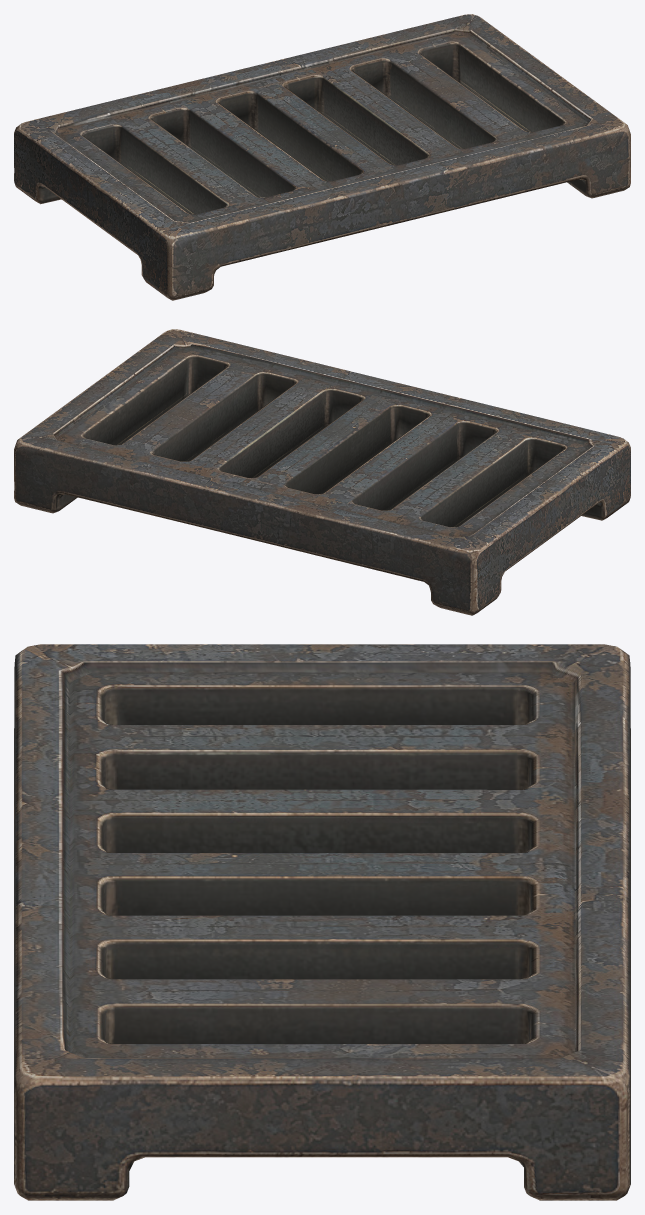
Rendered from P88_storm_drain_grate_Runtime_1k.glb.
3 renders of one model, top to bottom at view 1: azimuth 30°, elevation 25°; view 2: azimuth 150°, elevation 25°; view 3: azimuth 270°, elevation 25°, orthographic. The views are drawn at different scales.
Visible parts, largest first — view 1: tripo_node_12fa52f4; view 2: tripo_node_12fa52f4; view 3: tripo_node_12fa52f4.
Boxes of the visible parts, x1,y1,x2,y2 form: tripo_node_12fa52f4: (14,14,630,300); tripo_node_12fa52f4: (14,329,630,615); tripo_node_12fa52f4: (14,644,630,1200).
Bounding box in the file's own units: 0.48 × 0.0645 × 0.2849.
1 material, 1 textured.
